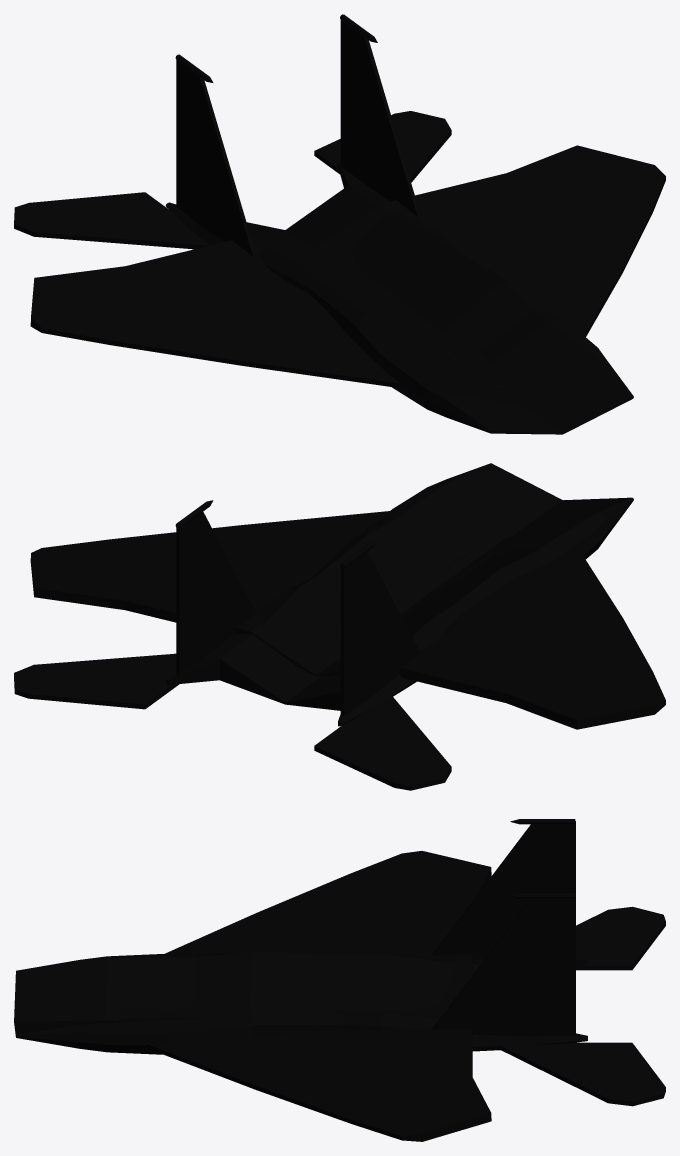
The model's file is F15_WingPre.fbx.
3 renders of one model, top to bottom at view 1: azimuth 30°, elevation 25°; view 2: azimuth 150°, elevation 25°; view 3: azimuth 270°, elevation 25°, orthographic. The views are drawn at different scales.
Visible parts, largest first — view 1: F15_Wing; view 2: F15_Wing; view 3: F15_Wing.
Part boxes in pixels (left/top/right/bottom): F15_Wing: left=14, top=14, right=665, bottom=434; F15_Wing: left=14, top=463, right=665, bottom=790; F15_Wing: left=14, top=819, right=665, bottom=1141.
Bounding box in the file's own units: 2.11 × 0.5966 × 2.06.
1 material, 1 textured.
